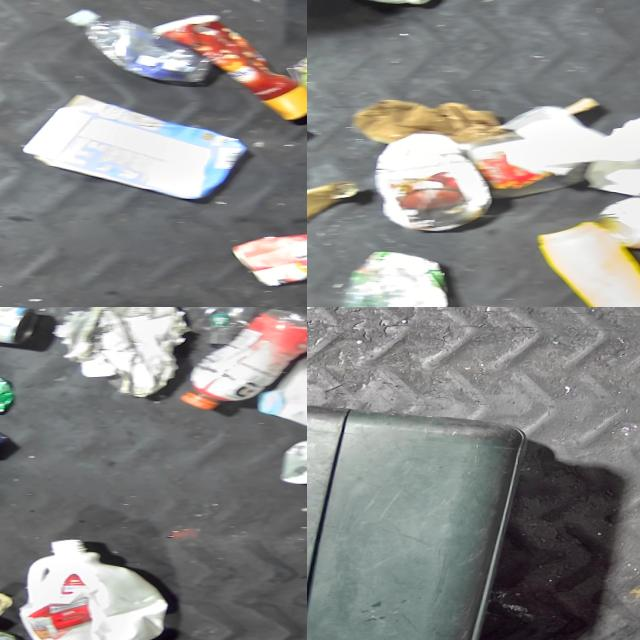can: (230, 228, 307, 285), (597, 183, 640, 249), (0, 307, 42, 346), (280, 433, 307, 484), (0, 372, 20, 411)
milk_jug: (21, 89, 255, 201), (24, 535, 182, 640), (256, 323, 307, 431)
non_white_jug: (375, 130, 498, 232), (533, 217, 640, 307)
plastic_bottle: (60, 6, 217, 82), (152, 307, 288, 345)
